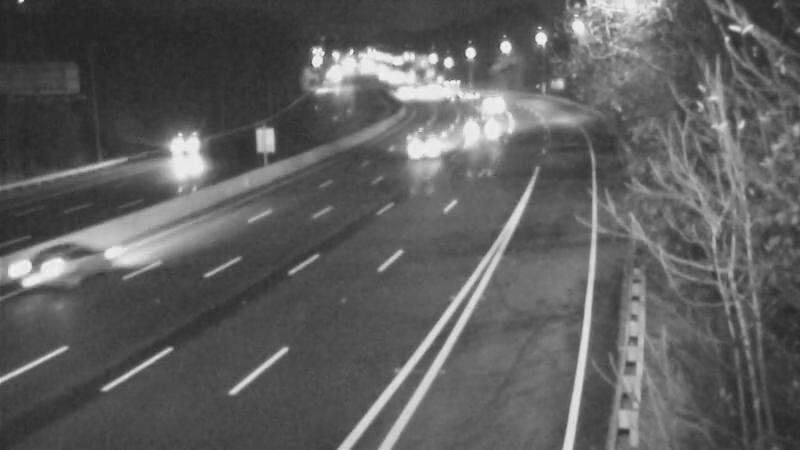vehicle: (4, 236, 84, 316), (144, 119, 224, 199), (382, 67, 432, 117), (429, 65, 479, 115), (462, 82, 512, 132), (453, 108, 503, 158), (396, 114, 446, 164)
